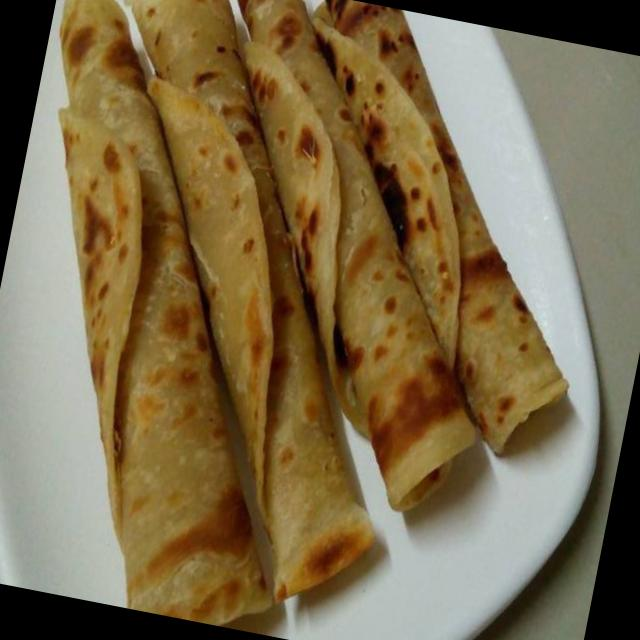roti: (54, 0, 576, 631)
